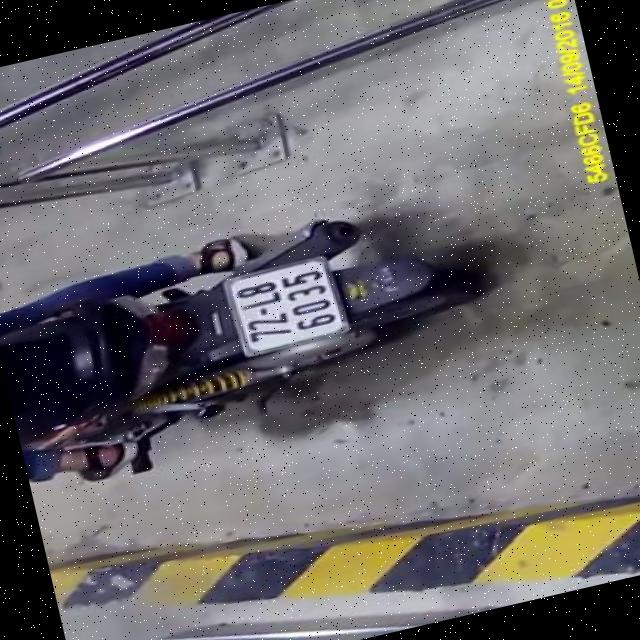license_plate: (222, 244, 358, 364)
